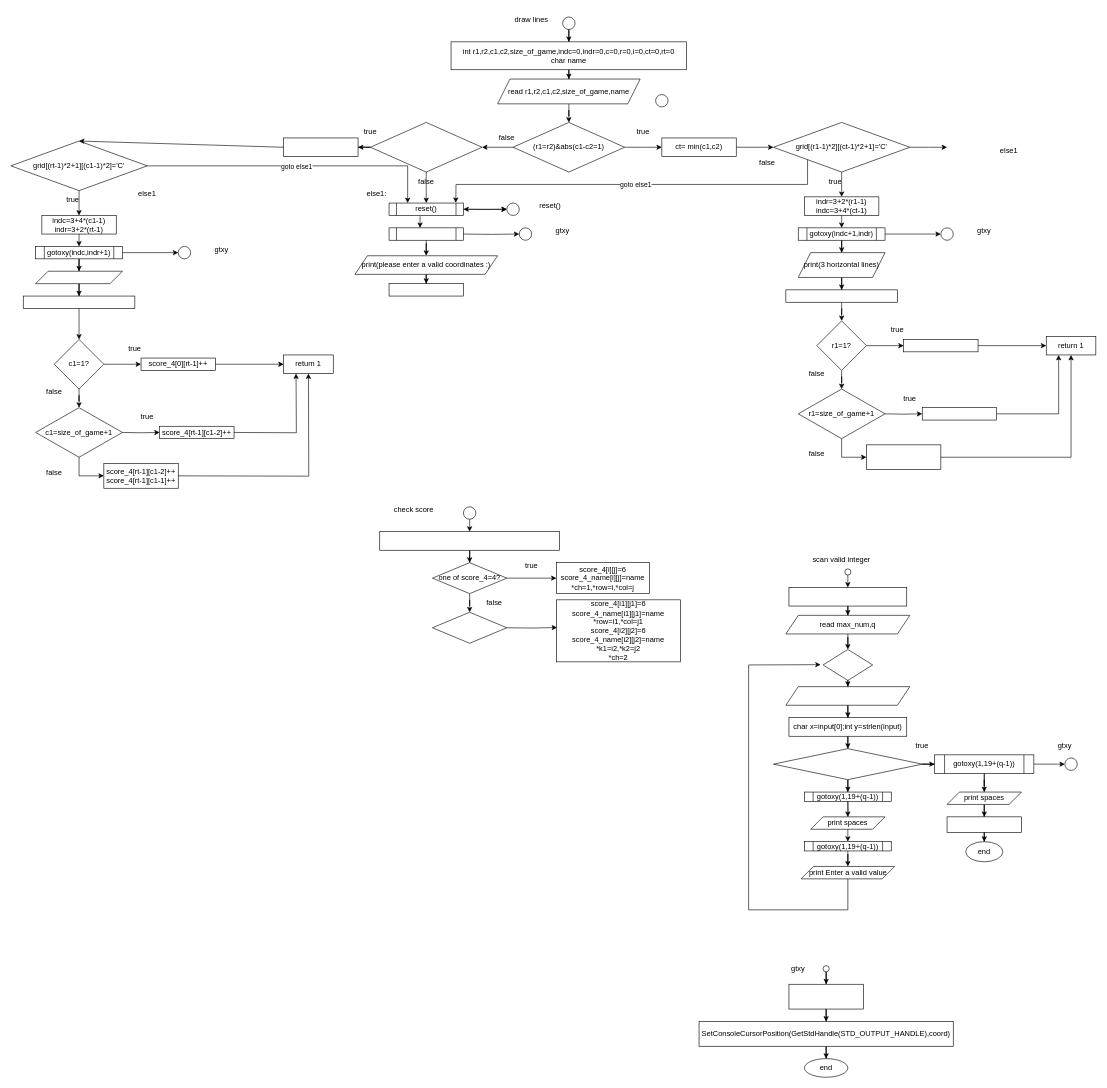
Some shapes in this 1107 by 1088 pixel diagram are drawn without their labels. Each missing label, with the box of its shape:
(c1=c2)&abs(r1-r2=1): (370, 122, 482, 172)
COORD coord={0,0} coord.X=x coord.Y=y: (788, 984, 863, 1009)
gotoxy(1,18): (388, 227, 463, 240)
grid[(r1-1)*2][(ct-1)*2+1]=name: (785, 289, 897, 302)
grid[(rt-1)*2+1][(c1-1)*2]=name: (23, 295, 135, 308)
int i=0,j=0,*ch=0,*row=-1,*col=-1,*k1,*k2,size,name: (379, 531, 560, 550)
int max_num,q,char input[100]: (788, 587, 907, 606)
print(vertical line): (35, 271, 122, 284)
read input: (785, 686, 910, 705)
return (x-48): (946, 816, 1021, 832)
return 2: (388, 283, 463, 296)
rt= min(r1,r2): (283, 137, 358, 157)
score_4[0][ct-1]++: (903, 339, 978, 352)
score_4[r1-2][ct-1]++: (922, 407, 997, 420)
score_4[r1-2][ct-1]++ score_4[r1-1][ct-1]++: (866, 444, 941, 470)
two of score_4=4?: (432, 612, 507, 643)
while(1): (822, 649, 873, 680)
y=1 & (x-48)>=1 & (x-48)<=max_num: (773, 748, 922, 780)
